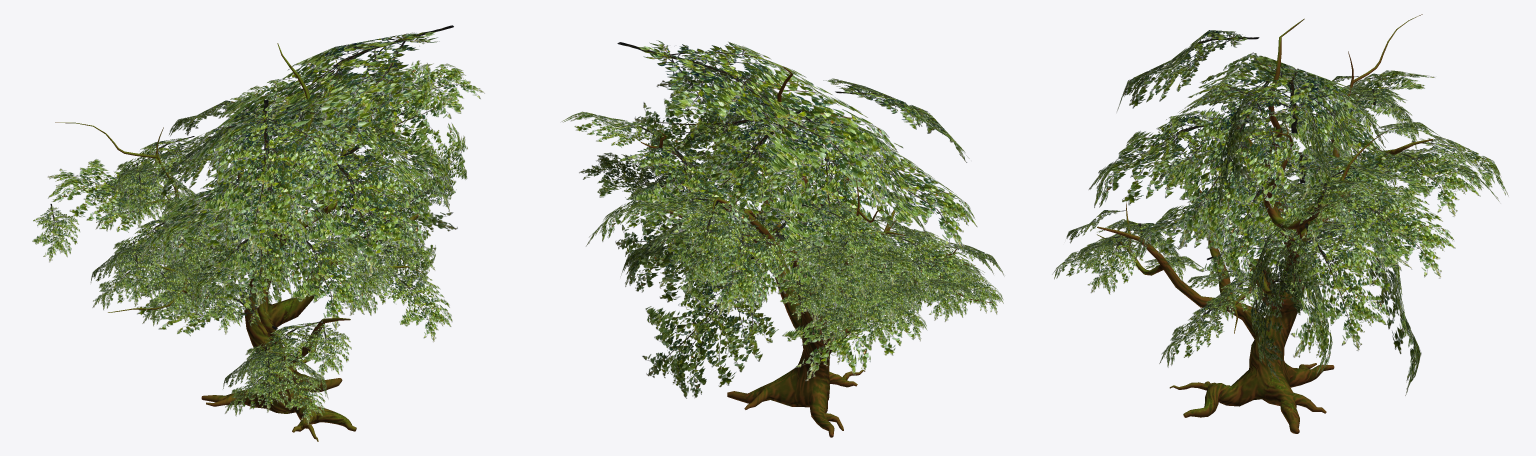
Rendered from a_fantasy_tree.glb.
The picture shows the model from 3 angles, left to right: view 1: azimuth 30°, elevation 25°; view 2: azimuth 150°, elevation 25°; view 3: azimuth 270°, elevation 25°; orthographic projection. The views are drawn at different scales.
Parts seen in each view (by area): view 1: pPlane156; view 2: pPlane156; view 3: pPlane156.
Part boxes in pixels (x1=…): pPlane156: x1=32, y1=25, x2=484, y2=441; pPlane156: x1=561, y1=40, x2=1004, y2=437; pPlane156: x1=1052, y1=14, x2=1508, y2=433.
Bounding box in the file's own units: 55.89 × 42.44 × 45.99.
2 materials, 2 textured.
